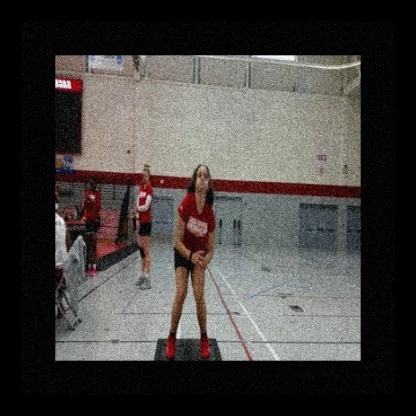lateral_flexion_right: (164, 161, 217, 361)
stance_width_broad: (164, 190, 216, 361)
